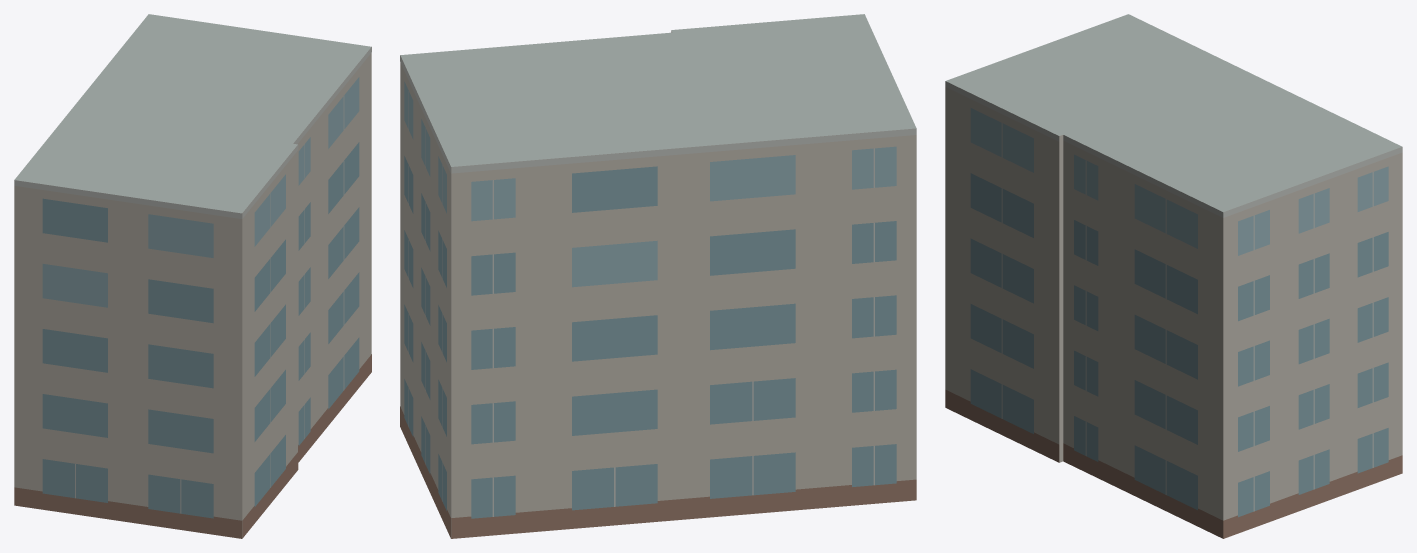
File: survey-upis-32977583.glb
The picture shows the model from 3 angles, left to right: view 1: azimuth 30°, elevation 25°; view 2: azimuth 150°, elevation 25°; view 3: azimuth 270°, elevation 25°; orthographic projection. The views are drawn at different scales.
Parts seen in each view (by area): view 1: survey-upis-32977583.tmp; view 2: survey-upis-32977583.tmp; view 3: survey-upis-32977583.tmp.
Part boxes in pixels (box(x1,y1,x2,y2)): survey-upis-32977583.tmp: box(14, 14, 371, 538); survey-upis-32977583.tmp: box(400, 14, 916, 538); survey-upis-32977583.tmp: box(945, 14, 1402, 538).
Bounding box in the file's own units: 18.1 × 13.9 × 17.64.
